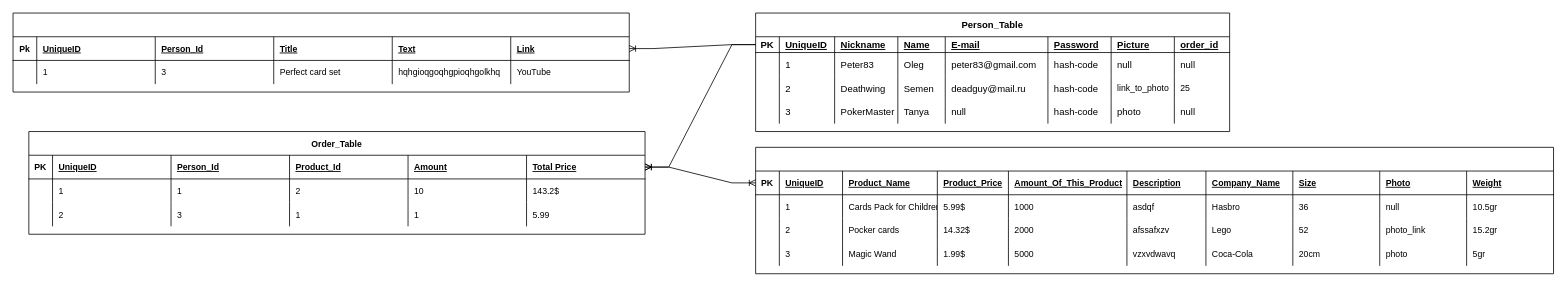
Image size: 1567x287. Some labels were removed from this diagram. The shapes that lost their labels are listed below. From the top down, each one's box as (x1, y1, x2, y2) in pixels, then its label:
(12, 12, 629, 92): Articles_Table
(755, 147, 1554, 274): Product_Table
